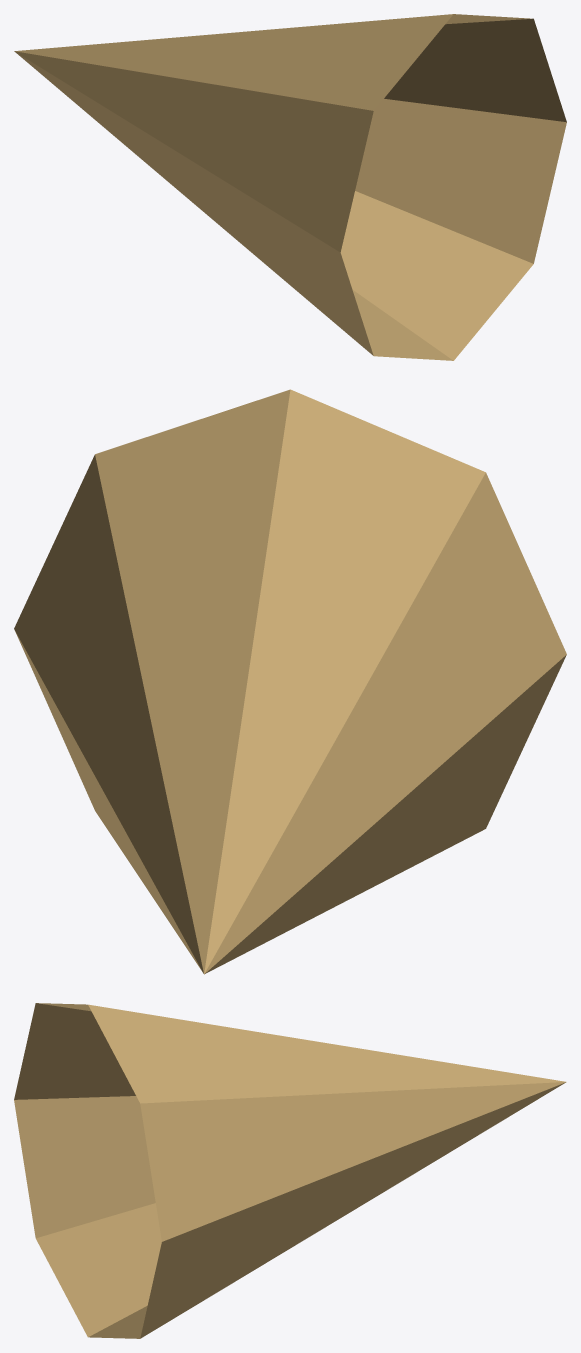
The model's file is cylinder.005_material.024_0_lev1.glb.
3 views of the same model, one above another, from view 1: azimuth 30°, elevation 25°; view 2: azimuth 150°, elevation 25°; view 3: azimuth 270°, elevation 25° (orthographic). The views are drawn at different scales.
Visible parts, largest first — view 1: cylinder.005_material.024_0_lev1; view 2: cylinder.005_material.024_0_lev1; view 3: cylinder.005_material.024_0_lev1.
Boxes of the visible parts, box(x1,y1,x2,y2) form: cylinder.005_material.024_0_lev1: box(14, 14, 566, 360); cylinder.005_material.024_0_lev1: box(14, 389, 566, 974); cylinder.005_material.024_0_lev1: box(14, 1003, 566, 1338).
Bounding box in the file's own units: 0.5222 × 0.5063 × 0.7622.
